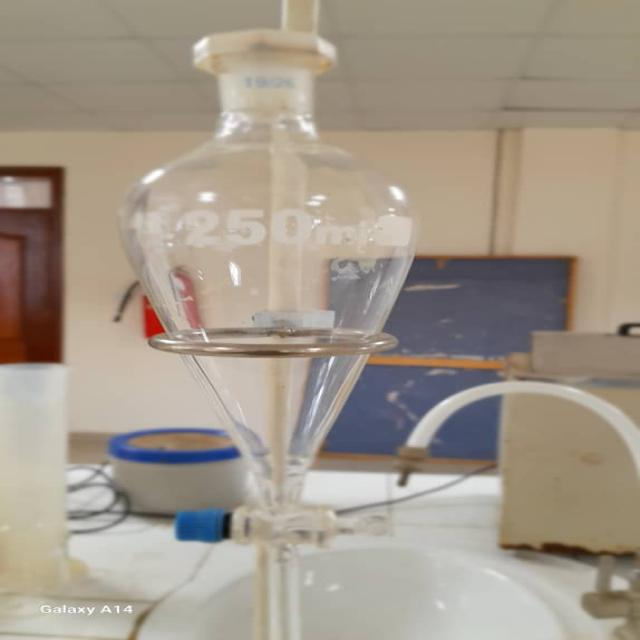Separating Funnel: (114, 15, 432, 638)
